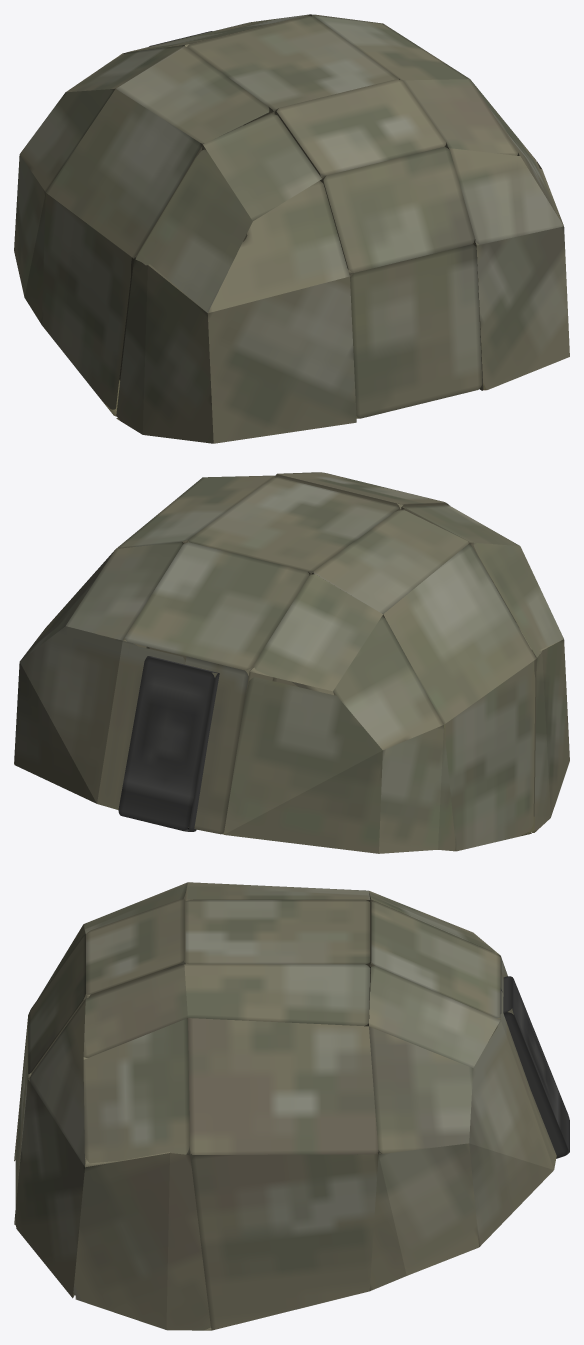
Rendered from osprey_h.obj.
The picture shows the model from 3 angles, top to bottom: view 1: azimuth 30°, elevation 25°; view 2: azimuth 150°, elevation 25°; view 3: azimuth 270°, elevation 25°; orthographic projection. The views are drawn at different scales.
Visible parts, largest first — view 1: mesh; view 2: mesh; view 3: mesh.
Part boxes in pixels (x1,y1,x2,y2): mesh: (14, 14, 569, 443); mesh: (14, 472, 569, 853); mesh: (14, 882, 569, 1330).
Bounding box in the file's own units: 0.7431 × 0.4841 × 0.8222.
